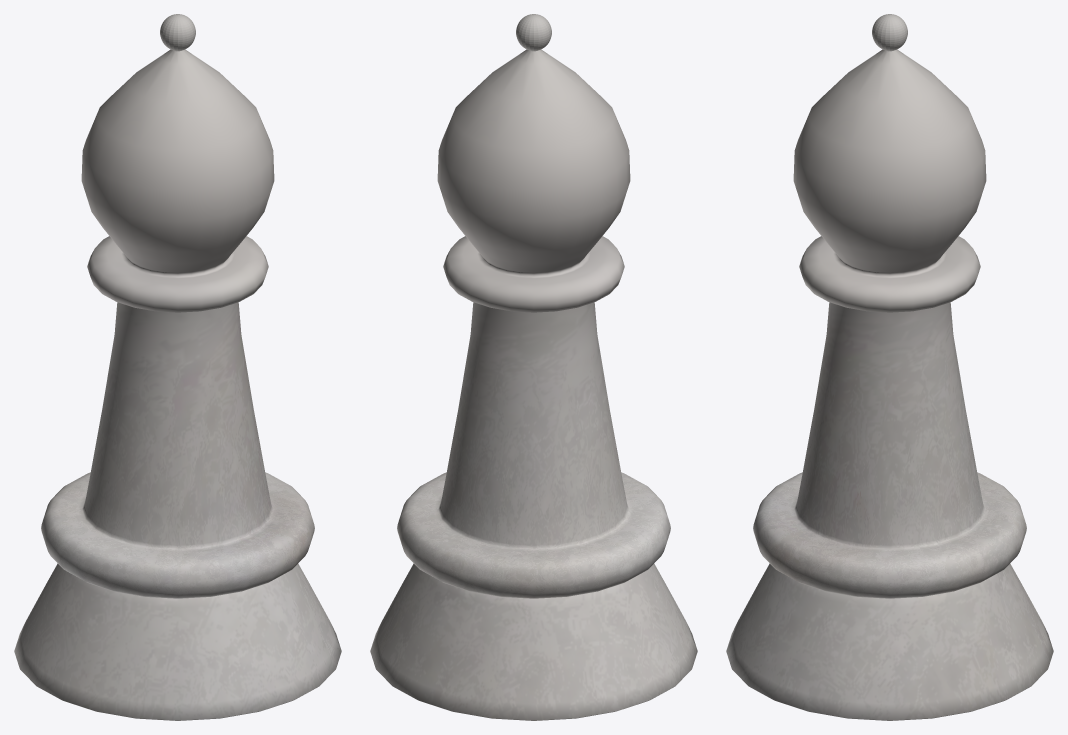
Rendered from bishop_white.obj.
3 renders of one model, left to right at view 1: azimuth 30°, elevation 25°; view 2: azimuth 150°, elevation 25°; view 3: azimuth 270°, elevation 25°, orthographic.
Visible parts, largest first — view 1: bishop_Cylinder.006; view 2: bishop_Cylinder.006; view 3: bishop_Cylinder.006.
Boxes of the visible parts, x1=… form: bishop_Cylinder.006: x1=14, y1=14, x2=341, y2=720; bishop_Cylinder.006: x1=370, y1=14, x2=697, y2=720; bishop_Cylinder.006: x1=726, y1=14, x2=1053, y2=720.
Size of the model in its own units: 0.9172 by 1.97 by 0.9172.
Materials: 1 (1 with a texture image).
